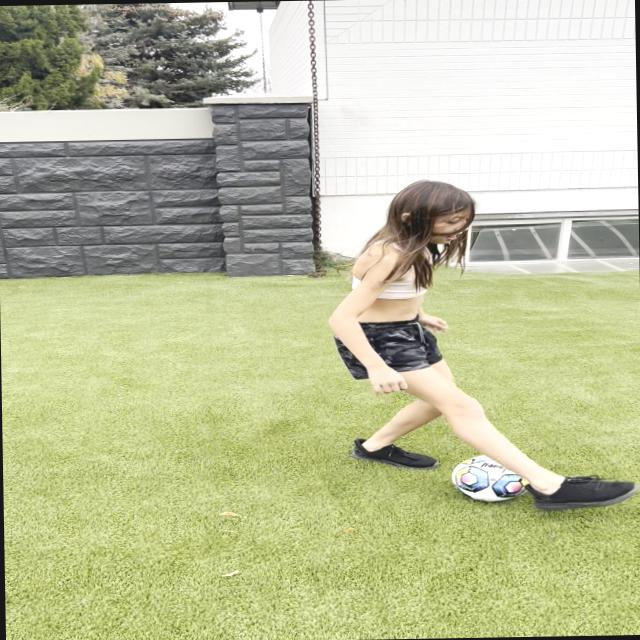Soccer Ball: (451, 453, 532, 502)
